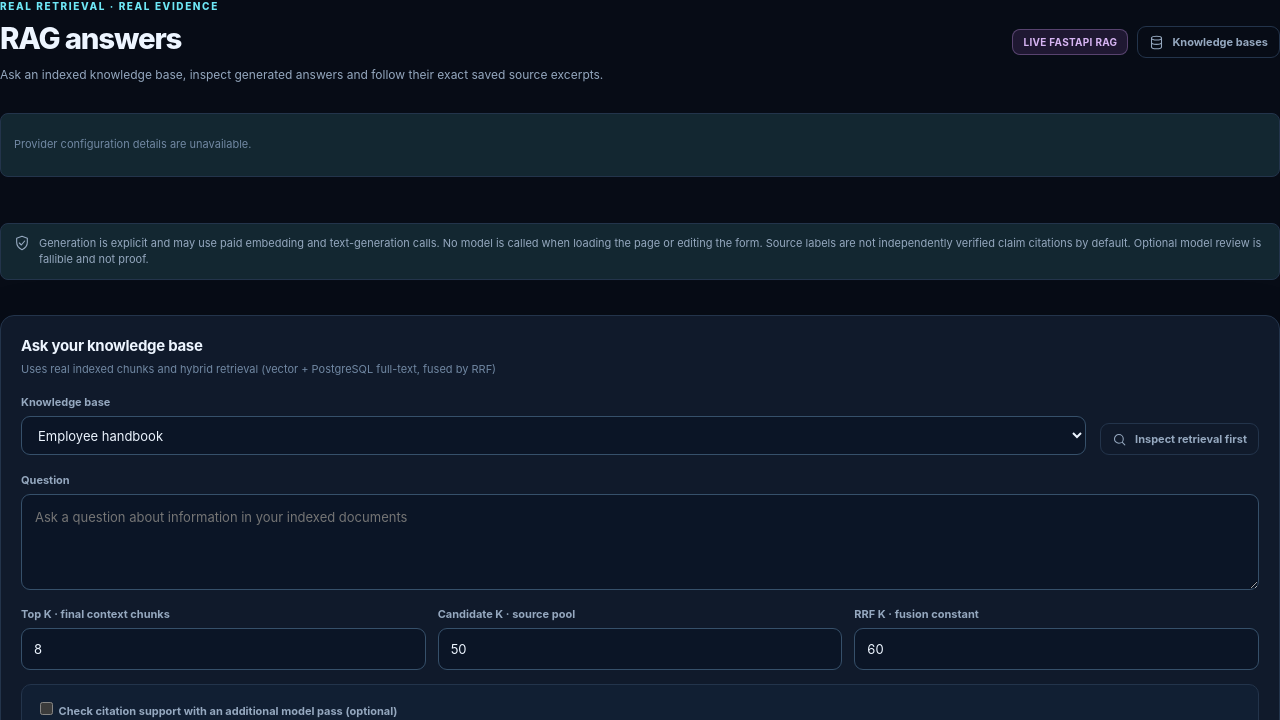
SP-15 live RAG answer frontend › submits a validated request and shows exact sources with clickable citation and trace links
In the text box labelled "Question": (640,542) left=21, top=494, right=1259, bottom=590, type "How many leave days do employees receive?"
(page scrolled)
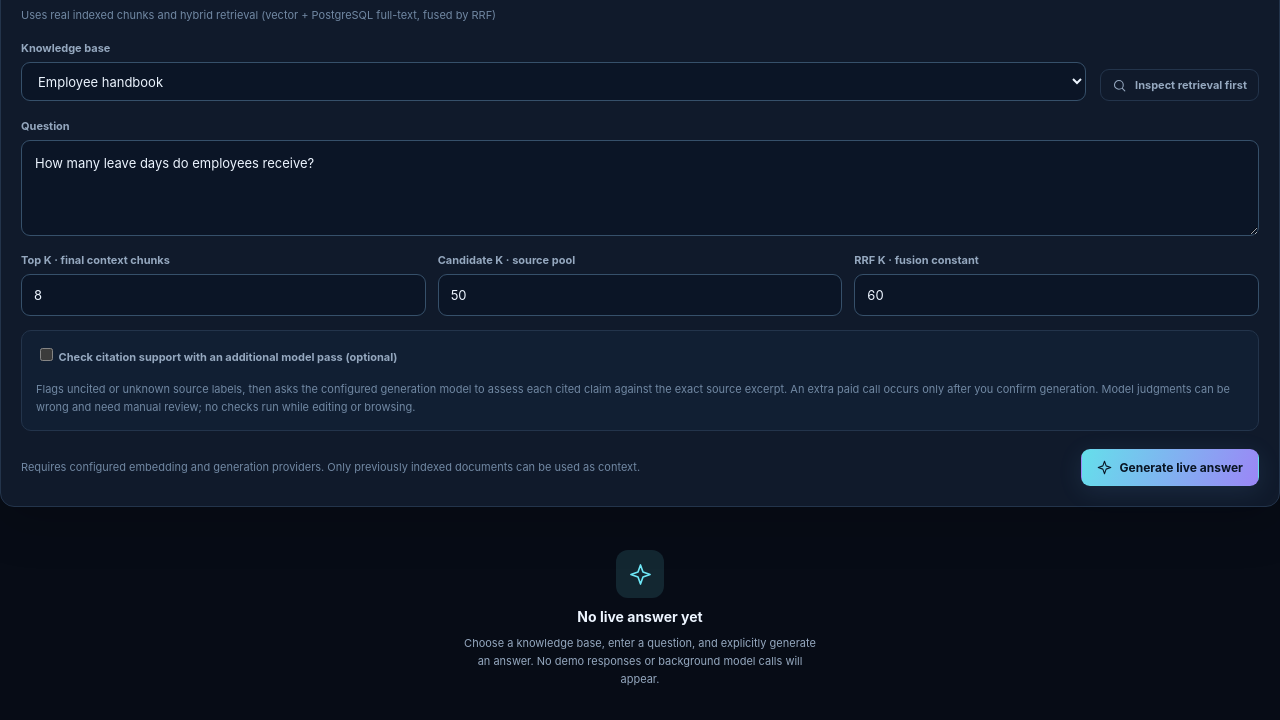
Click the button "Generate live answer": (1170,468) left=1081, top=449, right=1259, bottom=486
(page scrolled)
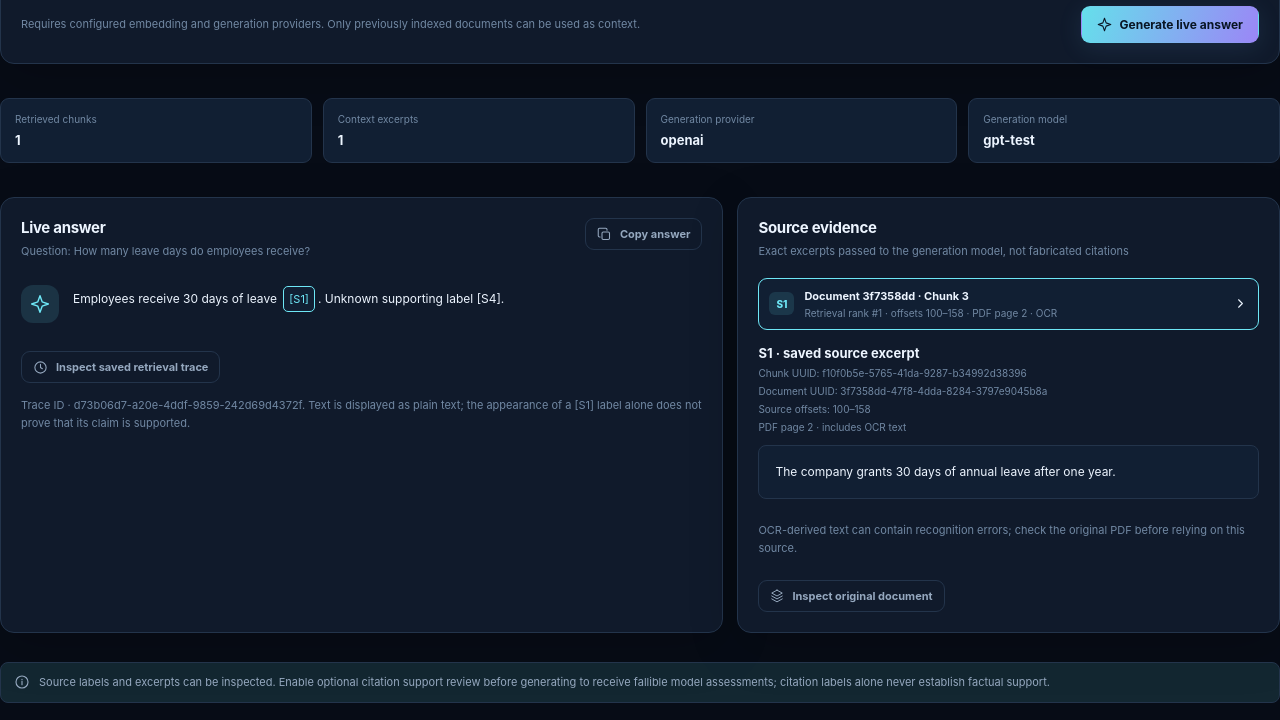
Expected: the button named "Inspect source S1" is shown, left=283, top=286, right=315, bottom=312
Expected: the text "The company grants 30 days of annual leave after one year." is shown, left=758, top=445, right=1259, bottom=499
Expected: the text "PDF page 2 · includes OCR text" is shown, left=758, top=421, right=906, bottom=433
